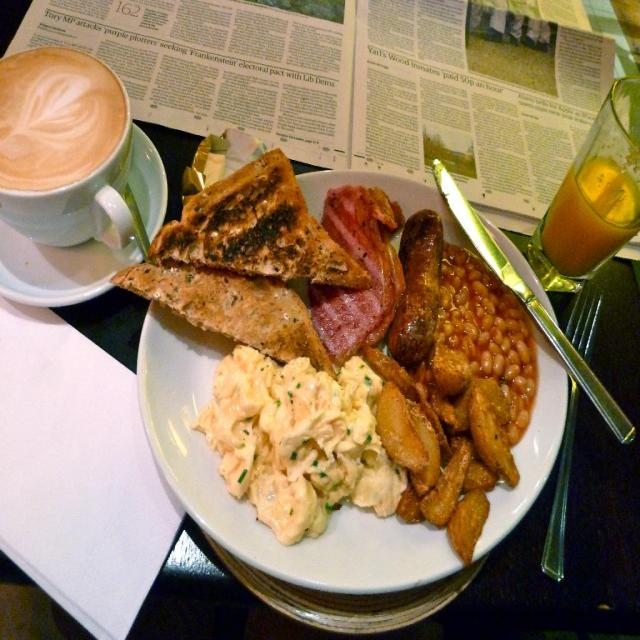Coffee: (3, 46, 140, 268)
